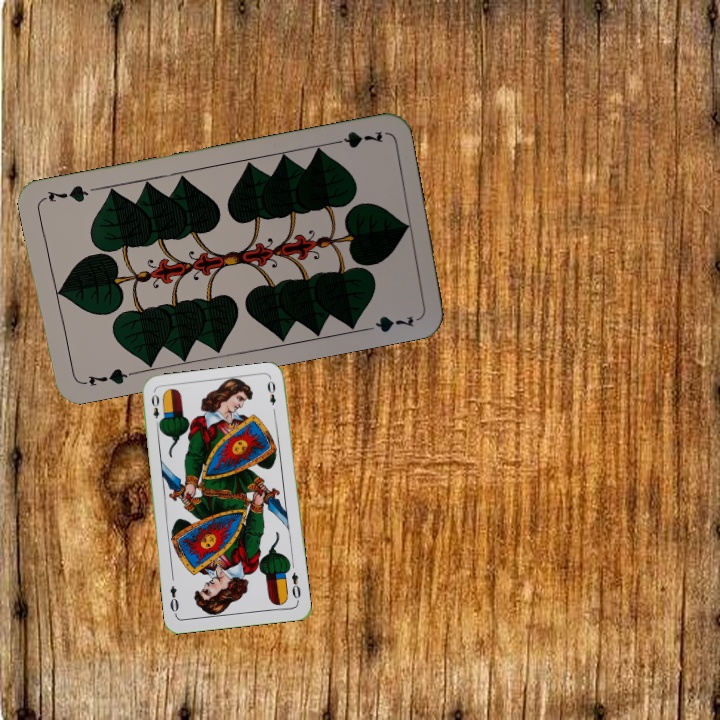EO: (147, 390, 164, 430), (288, 568, 303, 601)
G7: (77, 364, 136, 389), (326, 127, 385, 151)
